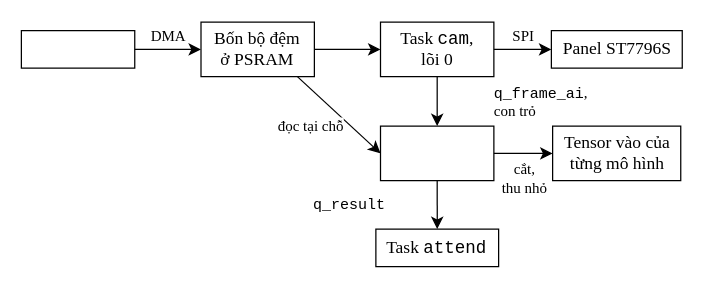
Some shapes in this 705 by 289 pixel diagram are drawn without their labels. Here are the shapes that lost their labels. From the top down, the centre of each, then its label:
(77,48): OV5640
(436,153): Task ai , lõi 1
